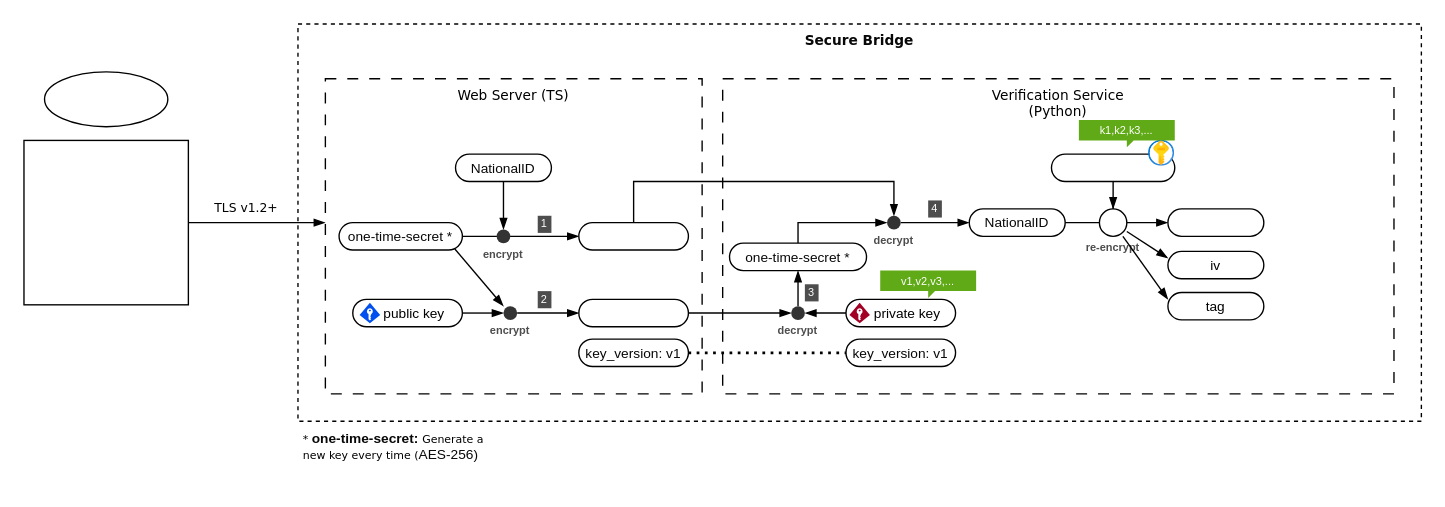
This 1445x507 diagram has some shape labels left out. Here are the shapes that lost their labels. From the top down, the centre of each, then its label:
(x=105, y=99): National ID
(x=1112, y=167): encryption_key
(x=105, y=222): Web
(x=632, y=235): encrypted_data
(x=1215, y=222): ciphertext
(x=632, y=312): encrypted_key
